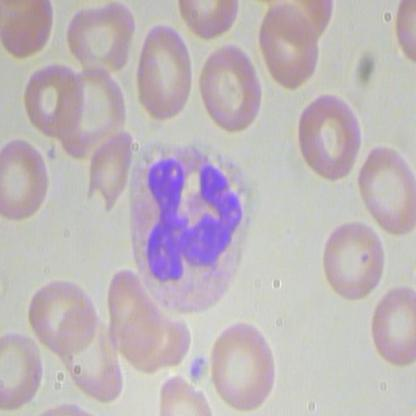Platelets: (187, 352, 205, 385)
RBC: (194, 40, 272, 136), (202, 316, 278, 408), (132, 21, 196, 122), (296, 92, 365, 181), (319, 216, 388, 305), (24, 275, 99, 355), (62, 1, 136, 81), (256, 1, 319, 93), (353, 143, 415, 233), (1, 133, 50, 224), (369, 280, 415, 371), (1, 328, 44, 415), (1, 1, 59, 65)
WBC: (122, 140, 259, 319)
